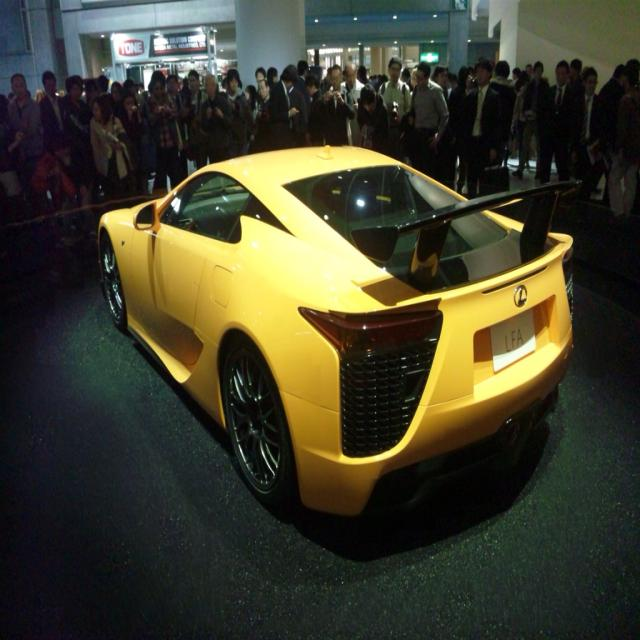car: (93, 128, 563, 524)
